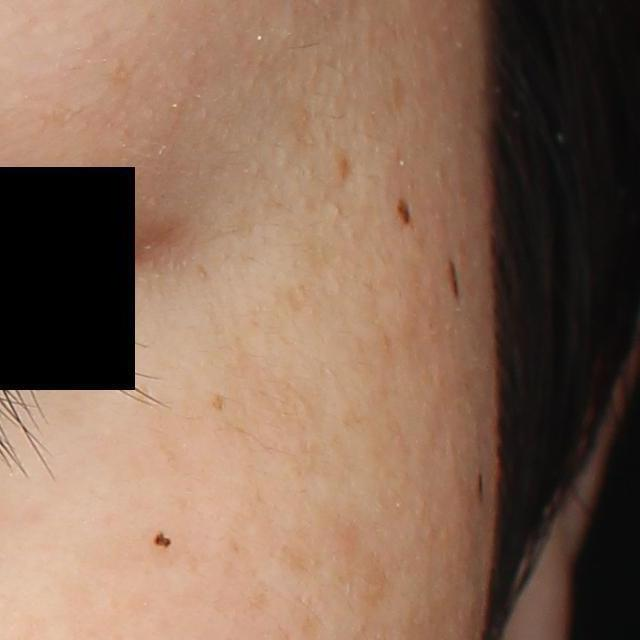melasma: (272, 537, 327, 580), (357, 550, 390, 613), (211, 395, 227, 412)
nevus: (445, 254, 463, 305), (394, 192, 413, 226), (153, 529, 172, 548)
